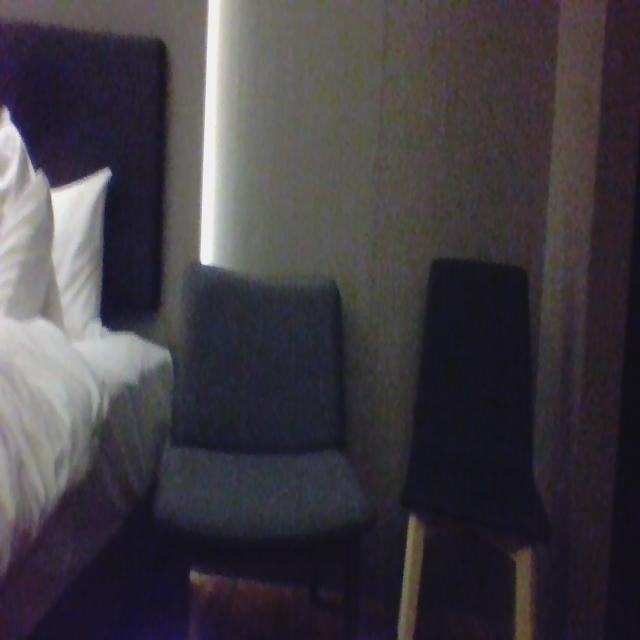empty: (178, 260, 351, 532), (419, 255, 534, 532)
